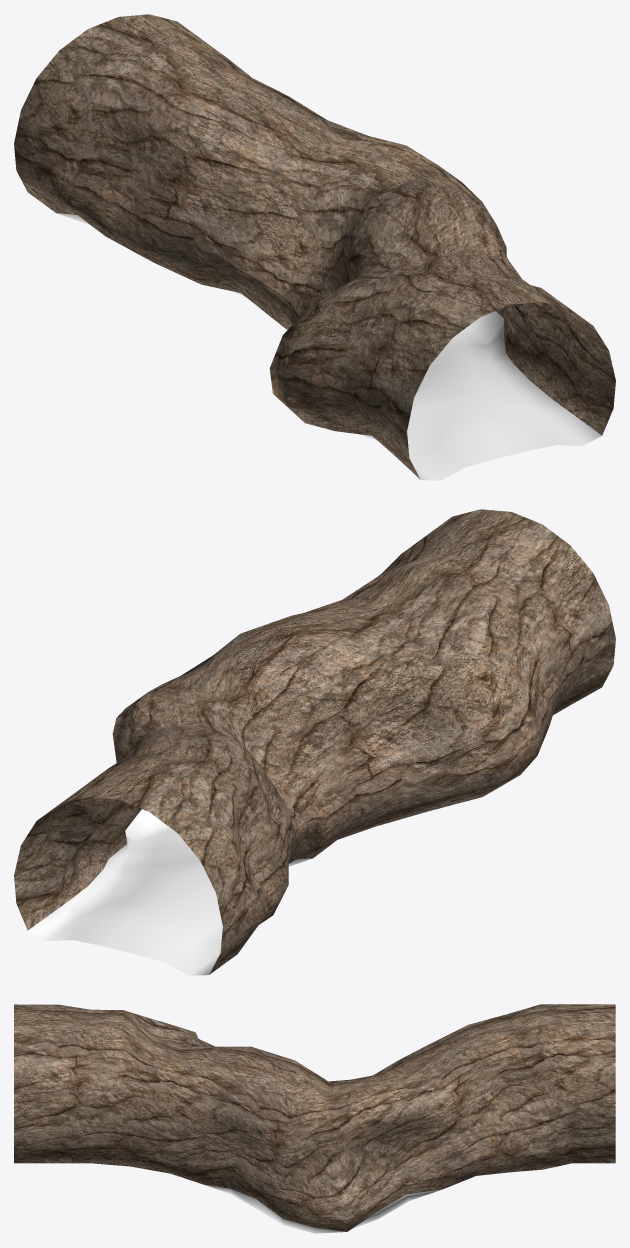
The model's file is CaveCorridorStraight.fbx.
The picture shows the model from 3 angles, top to bottom: view 1: azimuth 30°, elevation 25°; view 2: azimuth 150°, elevation 25°; view 3: azimuth 270°, elevation 25°; orthographic projection. The views are drawn at different scales.
Parts seen in each view (by area): view 1: CaveCorridorStraight; view 2: CaveCorridorStraight; view 3: CaveCorridorStraight.
Part boxes in pixels (x1=…): CaveCorridorStraight: x1=14, y1=14, x2=615, y2=480; CaveCorridorStraight: x1=14, y1=509, x2=615, y2=975; CaveCorridorStraight: x1=14, y1=1004, x2=615, y2=1233.
Size of the model in its own units: 486 by 308 by 1040.
